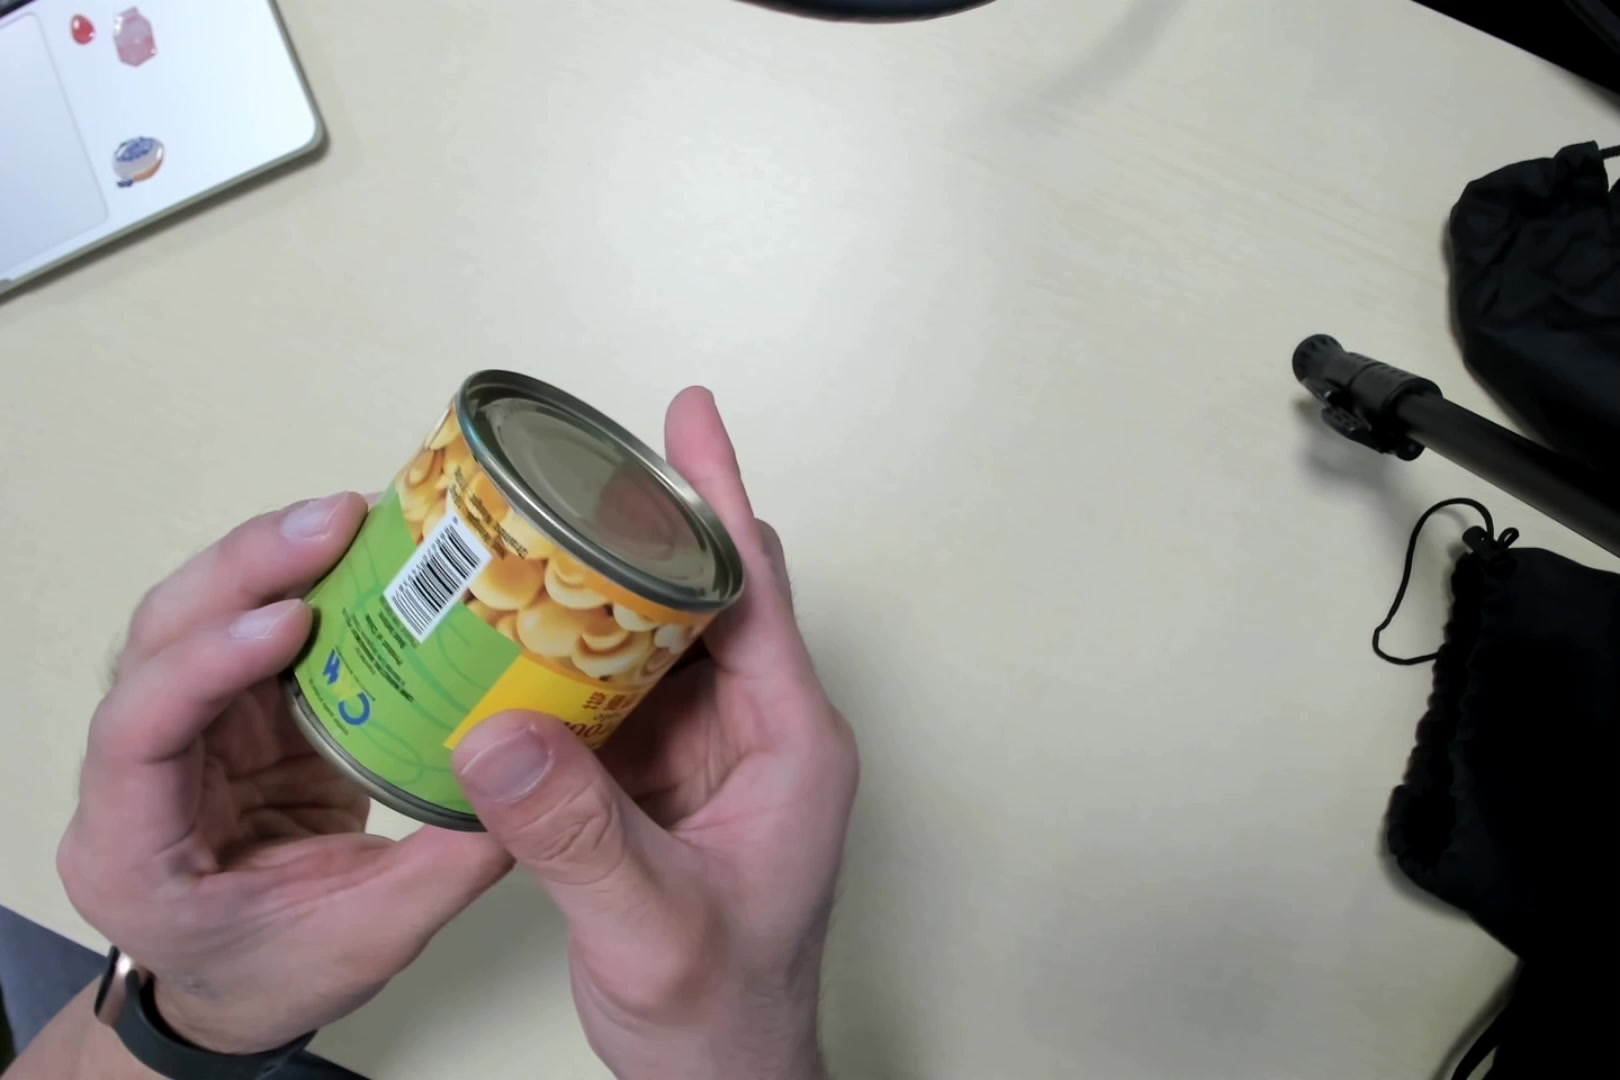CannedMashrooms_100-199g_Halal_NonHealthy: (299, 375, 726, 827)
